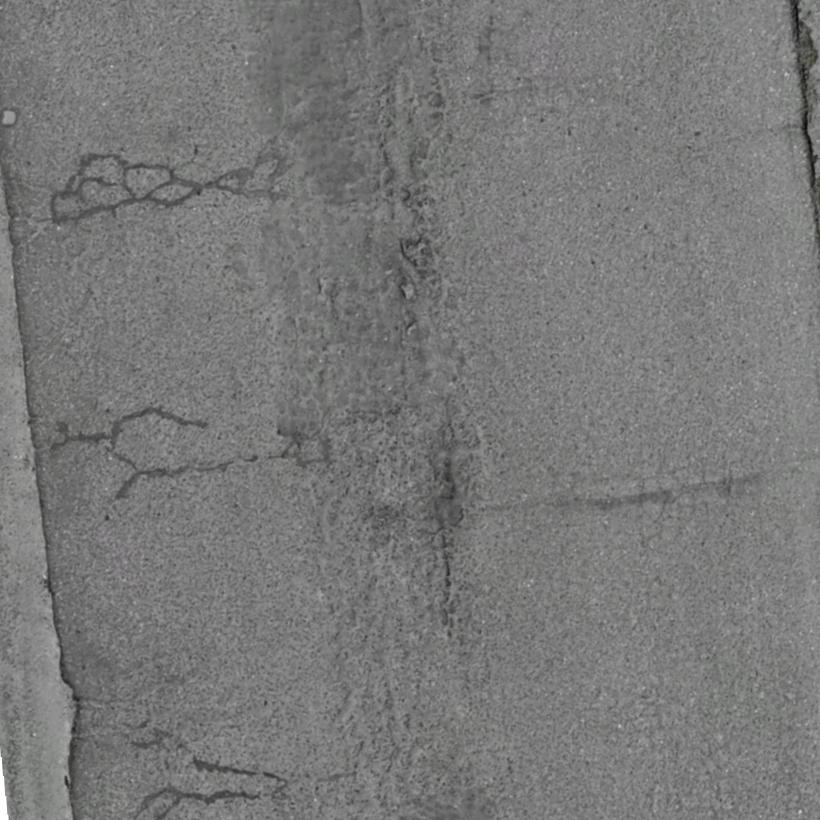GRIETA: (113, 454, 296, 499), (789, 0, 819, 241), (50, 407, 209, 451), (109, 442, 140, 470)
PIEL DE COCODRILO: (278, 0, 511, 819), (2, 147, 294, 269), (59, 693, 310, 819), (599, 686, 773, 819), (629, 458, 771, 562)
